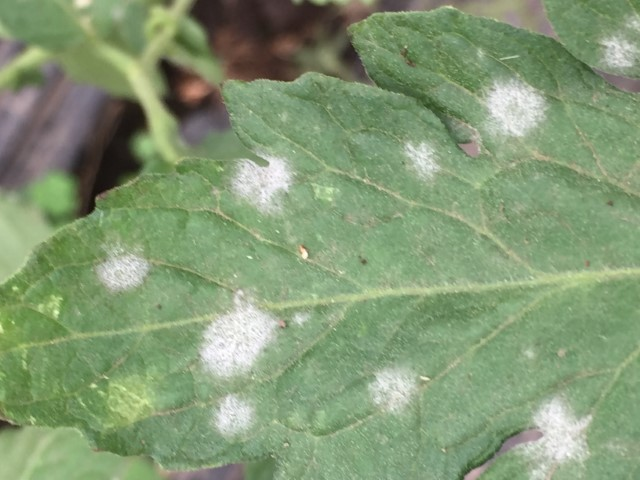oidio: (202, 289, 279, 377), (516, 395, 594, 480), (478, 72, 550, 136), (231, 154, 291, 216), (367, 363, 418, 416), (97, 243, 150, 294), (209, 392, 256, 445), (404, 138, 442, 187), (599, 32, 640, 69), (621, 12, 640, 33), (291, 309, 310, 327), (522, 345, 535, 360), (474, 44, 484, 60)
